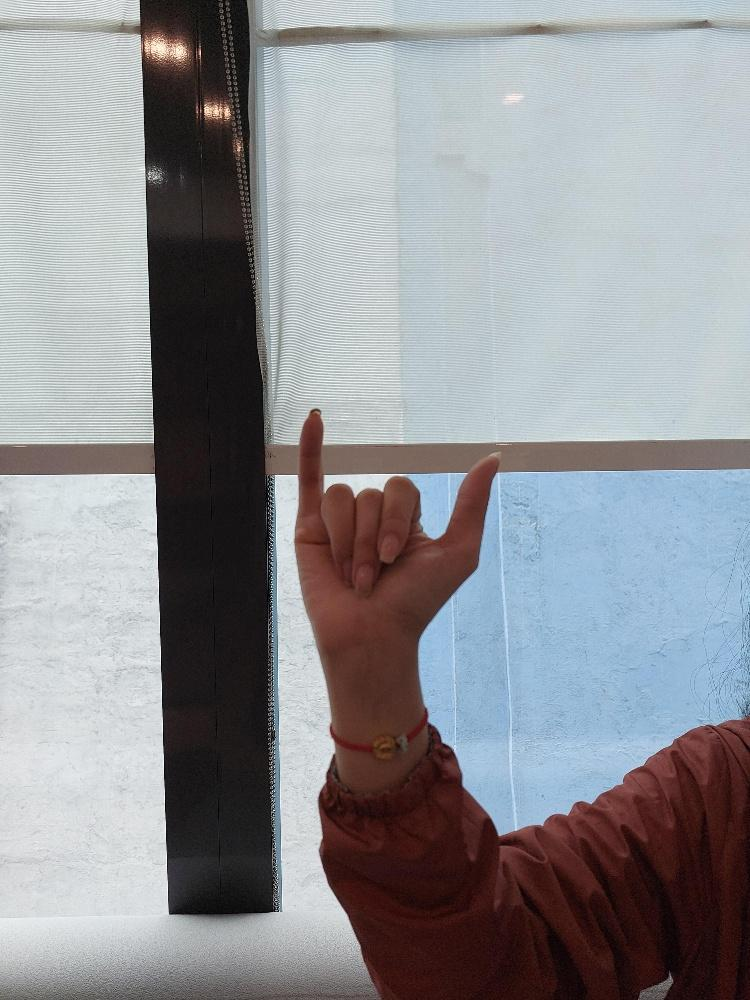y: (289, 401, 506, 664)
